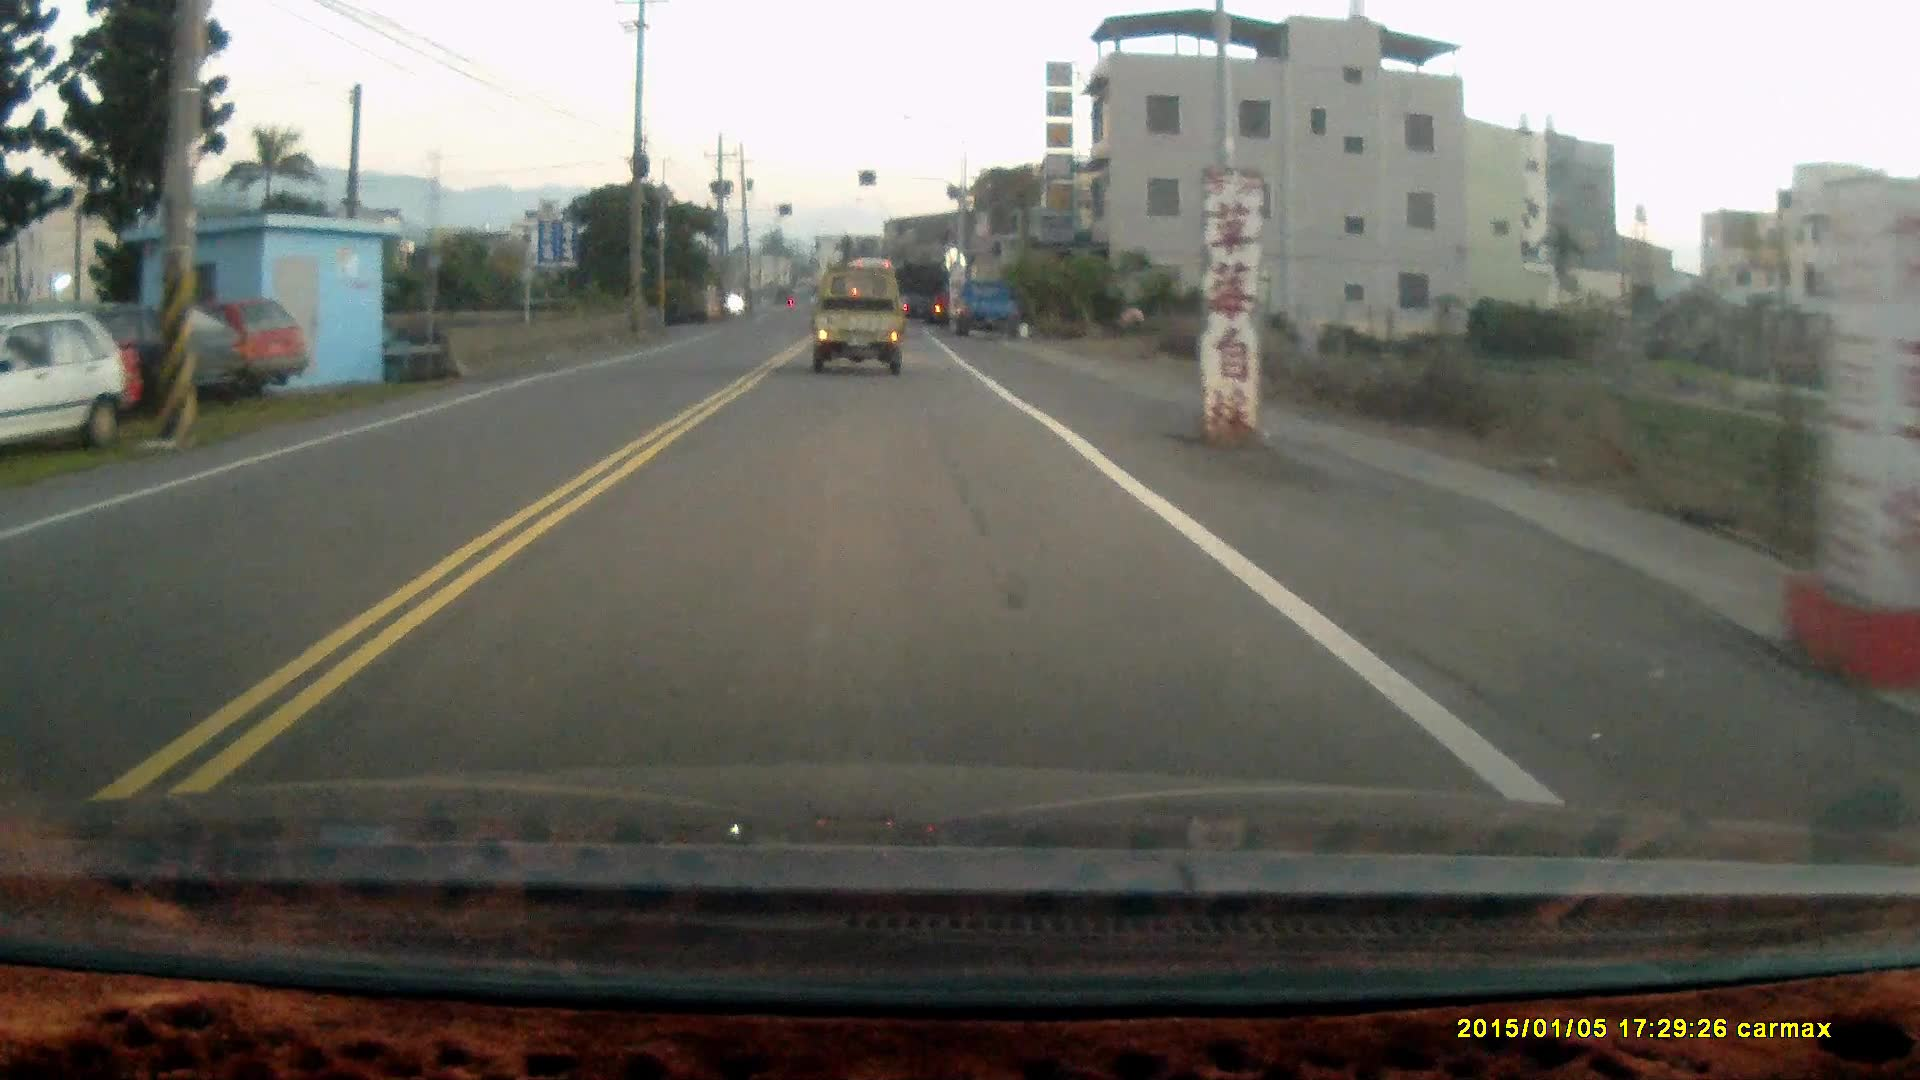vehicle: (22, 303, 256, 409), (84, 295, 305, 398), (1, 314, 127, 452), (814, 277, 909, 376), (953, 273, 1029, 338), (893, 258, 949, 324)
